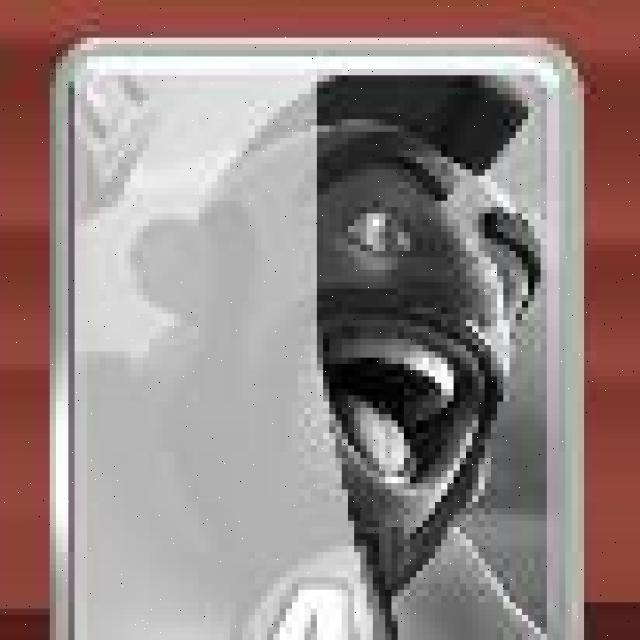Hog_Rider: (50, 38, 583, 640)
